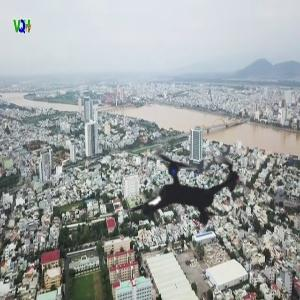drone: (96, 98, 277, 279)
